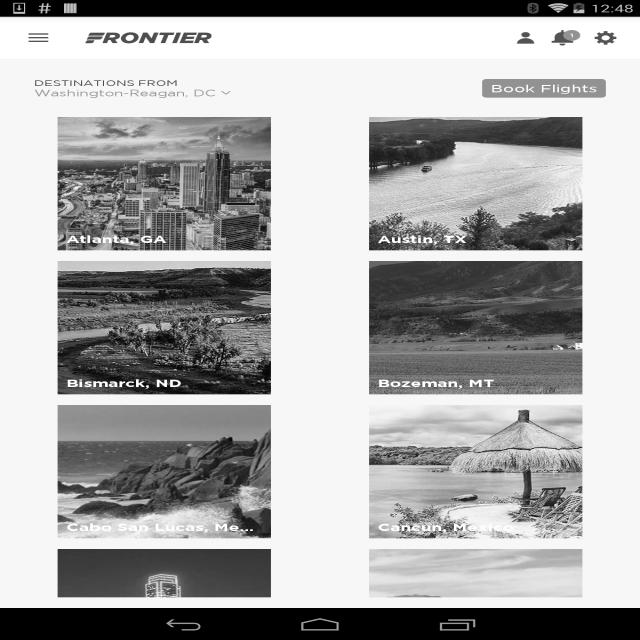ImageButton: (9, 17, 68, 59)
ImageView: (58, 117, 271, 250), (369, 117, 582, 250), (58, 261, 271, 394), (369, 261, 582, 394), (58, 405, 271, 538), (369, 405, 582, 538), (58, 549, 271, 640), (369, 549, 582, 640), (85, 32, 212, 44), (552, 30, 574, 46)
TextView: (58, 228, 271, 250), (369, 228, 582, 250), (58, 372, 271, 394), (369, 372, 582, 394), (58, 516, 271, 538), (369, 516, 582, 538), (482, 79, 606, 98), (34, 88, 231, 98), (580, 22, 632, 54), (501, 22, 552, 54), (34, 78, 178, 88), (563, 30, 580, 41)
